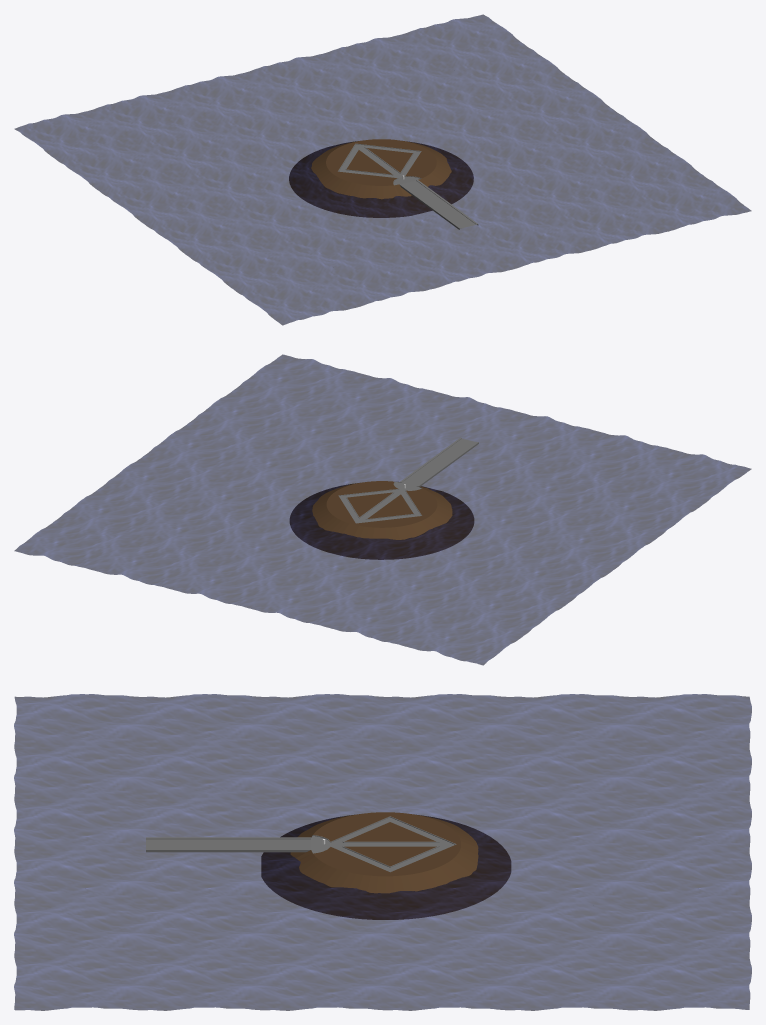
Rendered from Ground.fbx.
The picture shows the model from 3 angles, top to bottom: view 1: azimuth 30°, elevation 25°; view 2: azimuth 150°, elevation 25°; view 3: azimuth 270°, elevation 25°; orthographic projection. The views are drawn at different scales.
Visible parts, largest first — view 1: Sea, Ground; view 2: Sea, Ground; view 3: Sea, Ground.
Part boxes in pixels (<box>): Sea: <box>15,14,751,325</box>; Ground: <box>289,139,478,229</box>; Sea: <box>14,354,751,665</box>; Ground: <box>290,437,478,559</box>; Sea: <box>14,694,751,1010</box>; Ground: <box>146,812,510,919</box>.
Size of the model in its own units: 30075 by 1201 by 29856.
